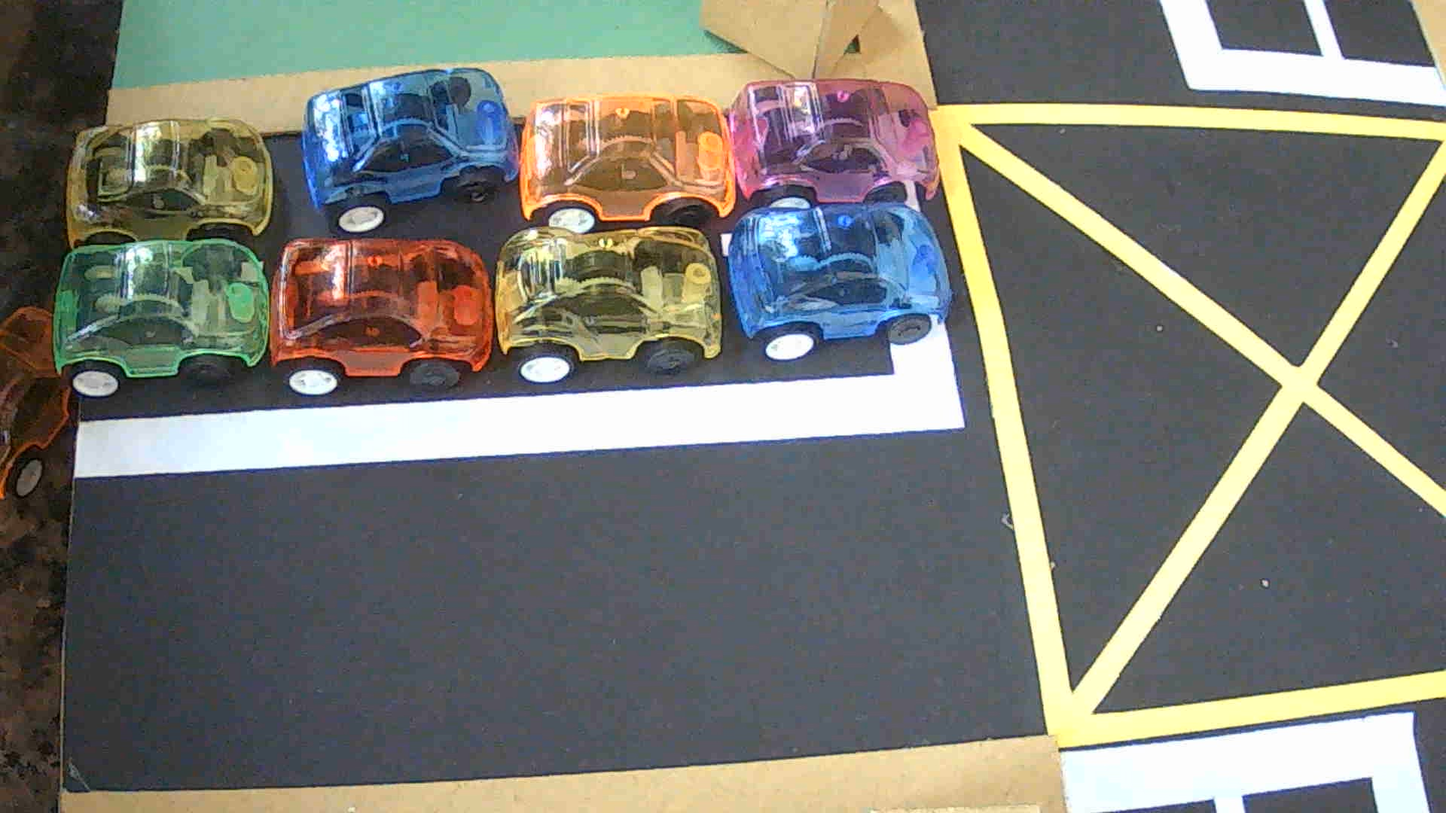Mobil biru: (301, 68, 518, 235), (728, 203, 952, 361)
Mobil hijau: (52, 239, 270, 397)
Mobil kuning: (494, 227, 721, 383), (66, 117, 273, 248)
Mobil merah: (270, 238, 493, 394)
Mobil orange: (519, 94, 734, 233)
Mobil ungu: (727, 79, 939, 207)
